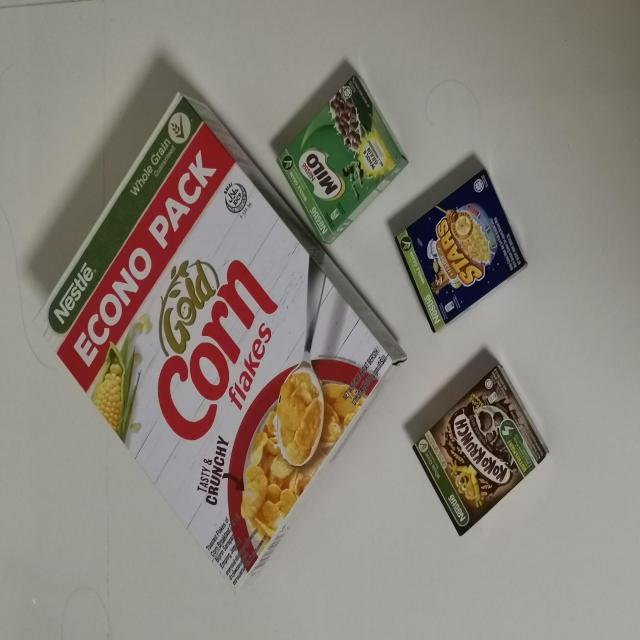Cerealbox: (26, 93, 409, 599), (264, 68, 412, 249), (410, 360, 554, 537), (394, 168, 530, 338)
